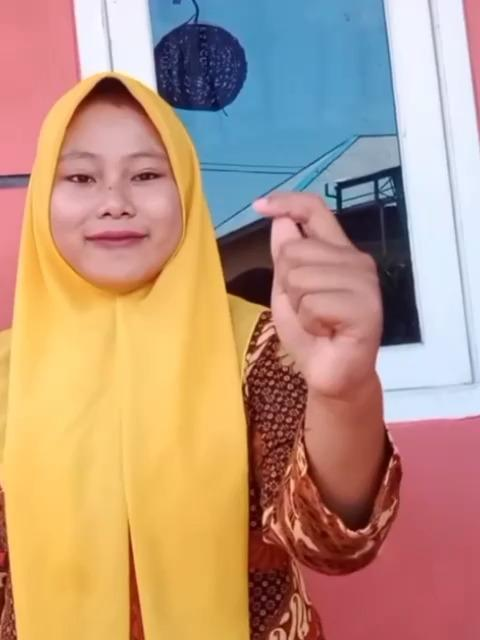T: (247, 192, 383, 398)
